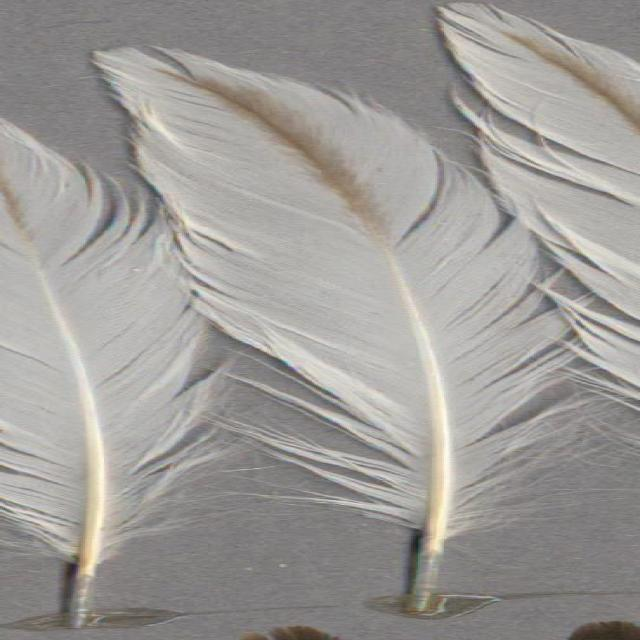feather: (82, 42, 640, 614), (0, 119, 251, 625)
